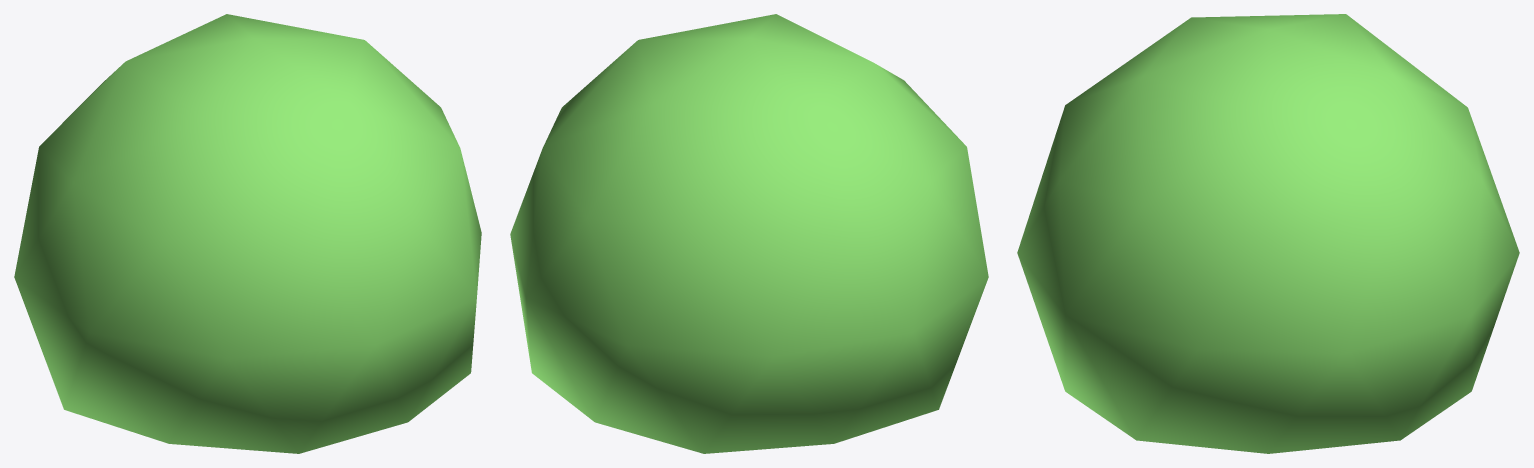
The model's file is arabe.fbx.
3 renders of one model, left to right at view 1: azimuth 30°, elevation 25°; view 2: azimuth 150°, elevation 25°; view 3: azimuth 270°, elevation 25°, orthographic. The views are drawn at different scales.
Parts seen in each view (by area): view 1: Icosphere; view 2: Icosphere; view 3: Icosphere.
Part boxes in pixels (box(x1,y1,x2,y2)): Icosphere: box(14, 14, 481, 453); Icosphere: box(510, 14, 988, 453); Icosphere: box(1017, 14, 1519, 453).
Bounding box in the file's own units: 190 × 183 × 200.
